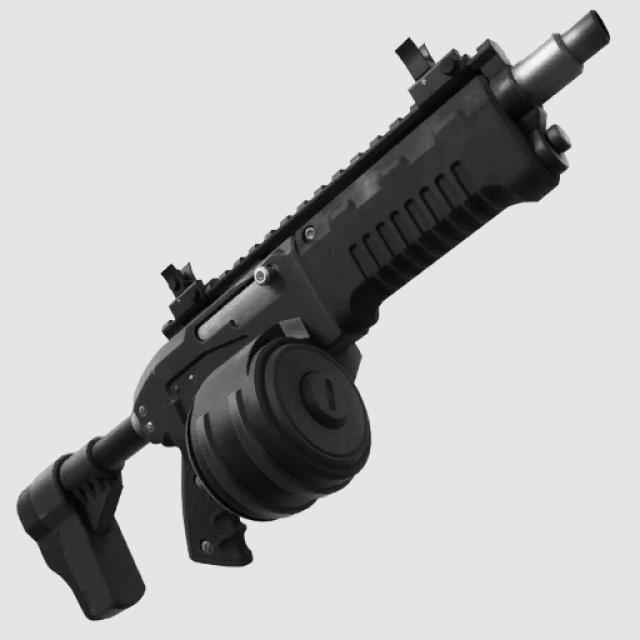Sub-machine-gun: (12, 0, 588, 630)
